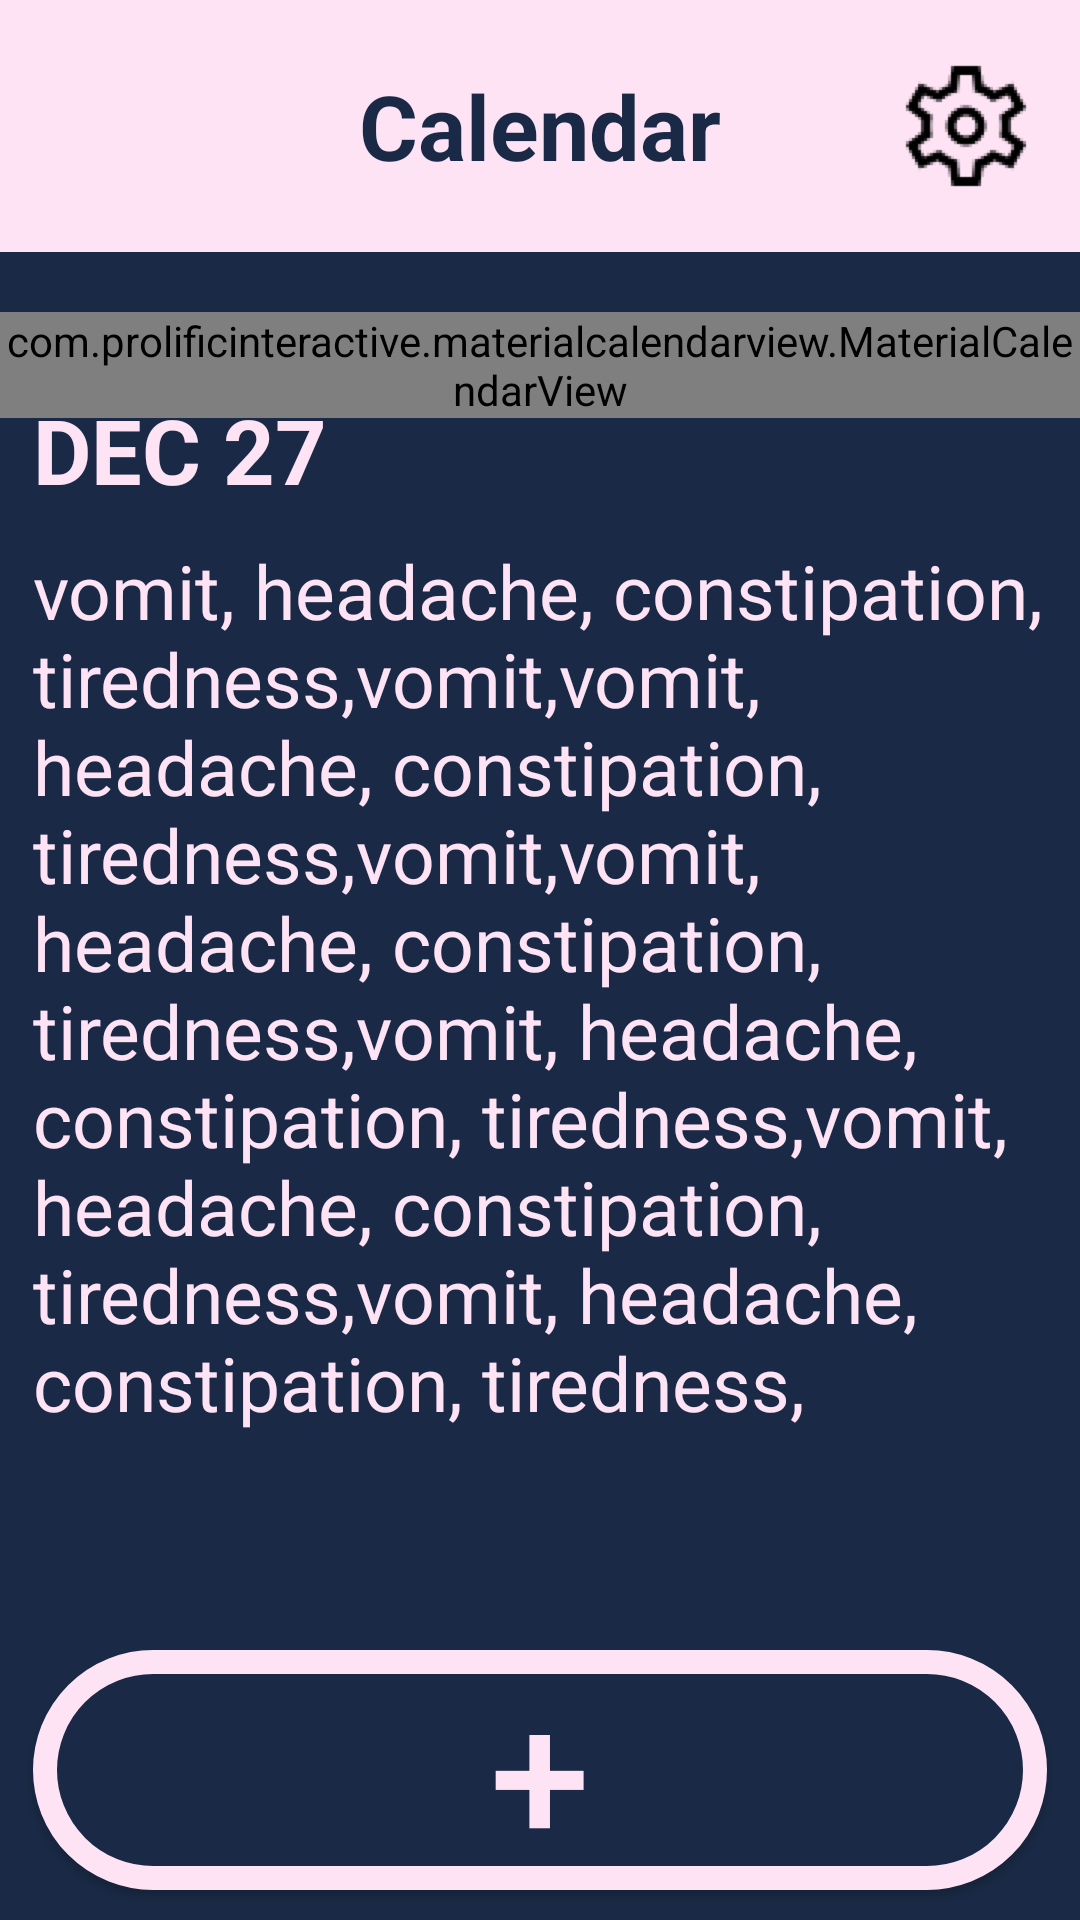

Where to tap for icons on this 1080×1920 app screen, as point (x, y):
setting: point (966, 126)
